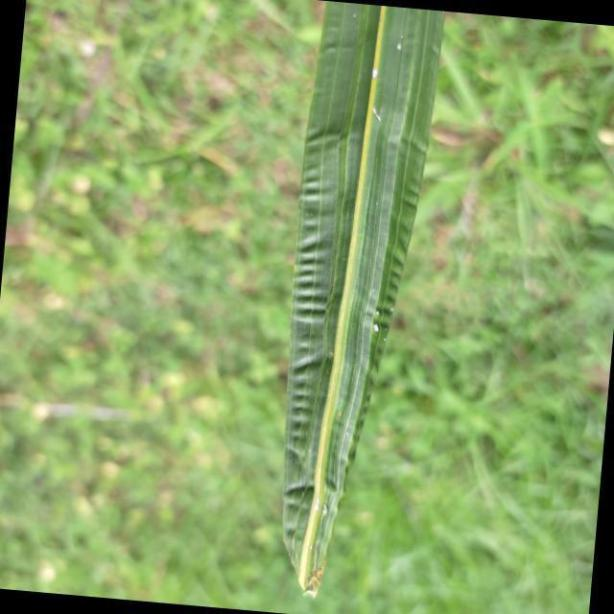Boron: (283, 0, 445, 614)
